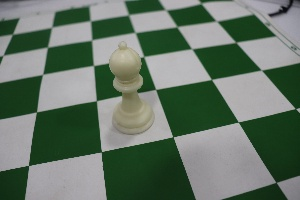white_bishop: (95, 33, 163, 141)
